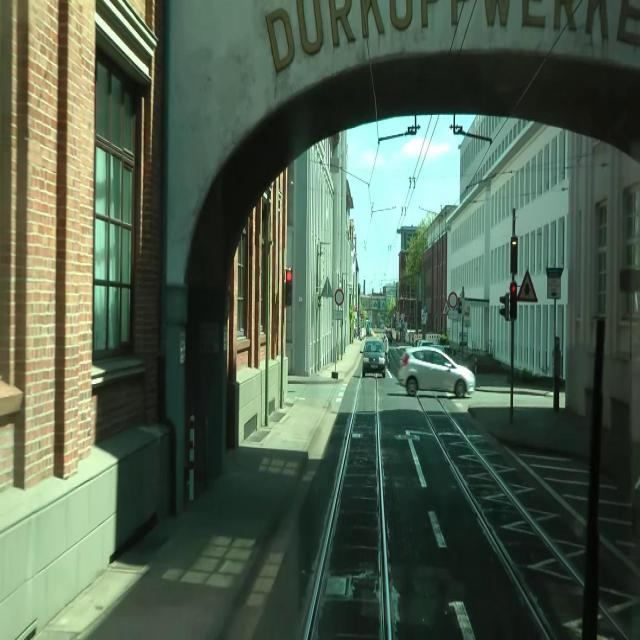rail: (421, 402, 557, 640), (437, 397, 586, 588), (305, 380, 362, 640), (506, 447, 589, 528), (377, 380, 394, 640), (601, 536, 640, 578), (602, 607, 629, 640), (616, 624, 629, 640)
